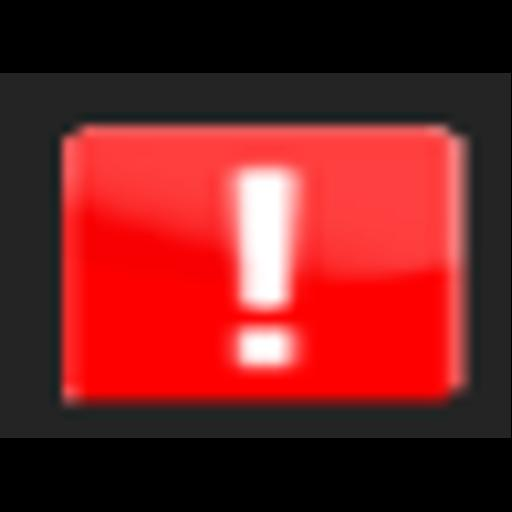Grupo Santander: (0, 73, 511, 438)
